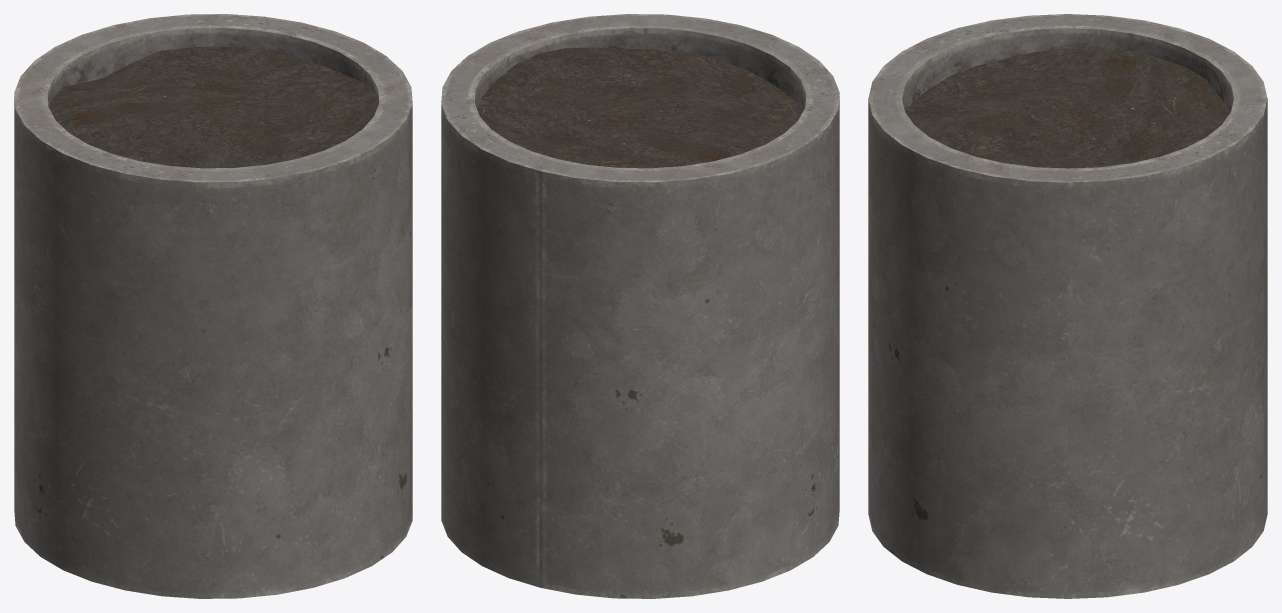
File: SM_PlanterC.fbx
The picture shows the model from 3 angles, left to right: view 1: azimuth 30°, elevation 25°; view 2: azimuth 150°, elevation 25°; view 3: azimuth 270°, elevation 25°; orthographic projection.
Parts seen in each view (by area): view 1: SM_PlanterC_LOD0; view 2: SM_PlanterC_LOD0; view 3: SM_PlanterC_LOD0.
Part boxes in pixels (x1,y1,x2,y2): SM_PlanterC_LOD0: (14, 14, 412, 598); SM_PlanterC_LOD0: (441, 14, 839, 598); SM_PlanterC_LOD0: (868, 14, 1267, 598).
Bounding box in the file's own units: 46.76 × 46.76 × 53.82.
Materials: 1 (1 with a texture image).
